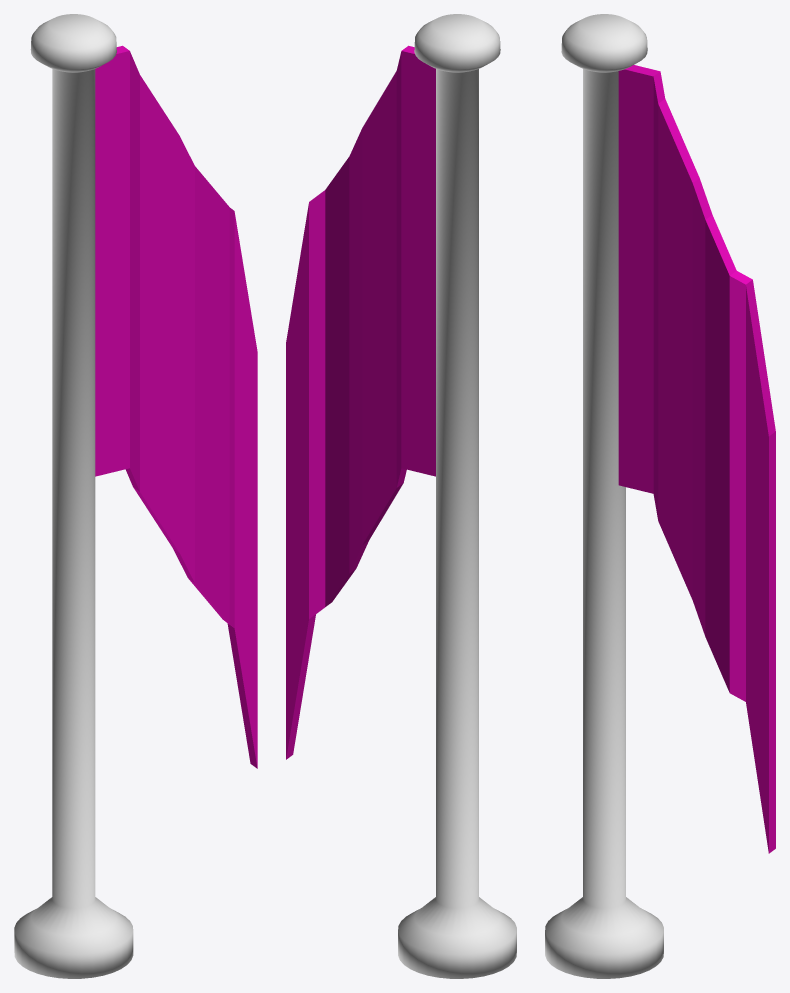
The model's file is flag.fbx.
3 renders of one model, left to right at view 1: azimuth 30°, elevation 25°; view 2: azimuth 150°, elevation 25°; view 3: azimuth 330°, elevation 25°, orthographic.
Parts seen in each view (by area): view 1: Cylinder; view 2: Cylinder; view 3: Cylinder.
Part boxes in pixels (x1,y1,x2,y2): Cylinder: (14,14,257,978); Cylinder: (286,14,516,978); Cylinder: (545,14,775,978).
Size of the model in its own units: 437 by 1721 by 200.
